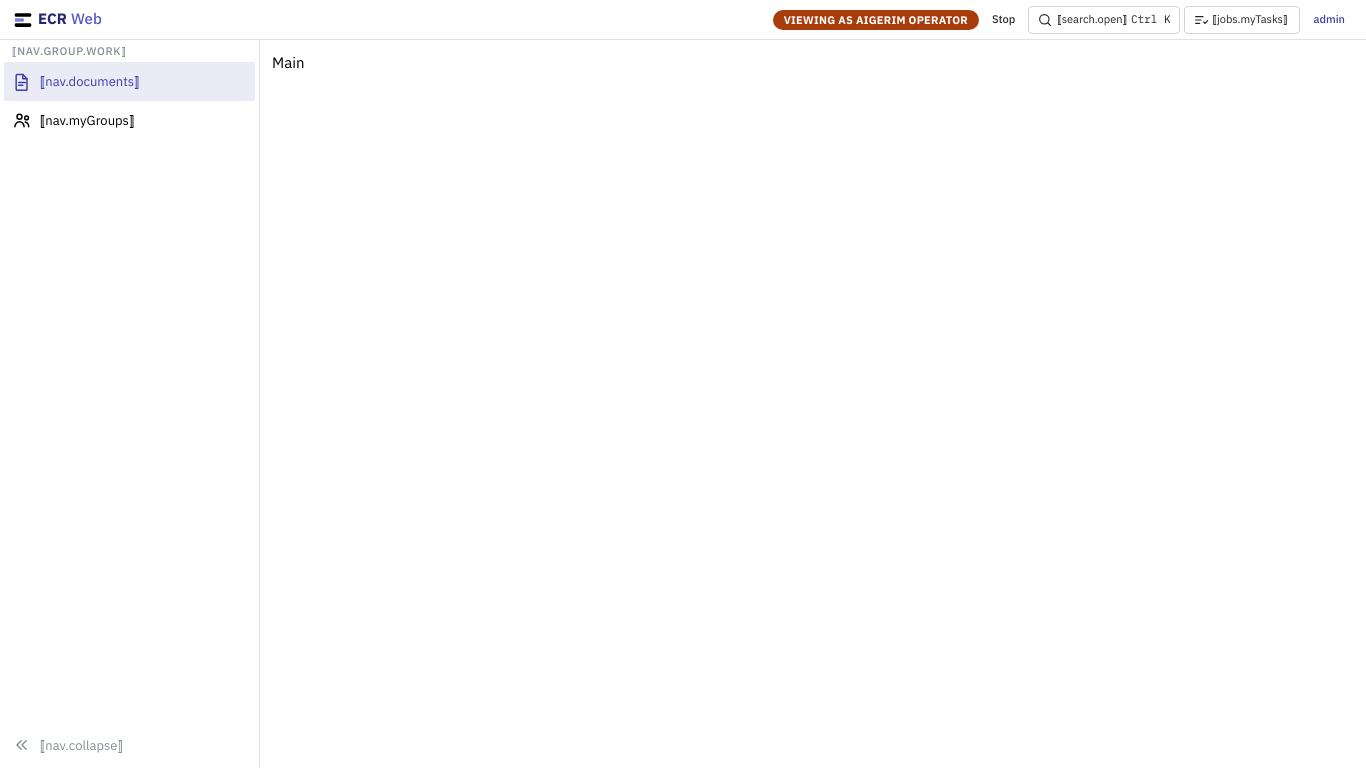
Scenario: AppLayout: банер симуляції (V-06) › показує ім'я суб'єкта і завершує сеанс номером із /me, без sessionStorage
Expected: the text "Viewing as Aigerim Operator" is shown, [784, 10, 968, 28]
Click the button "Stop". click: (1004,20)
box: [983, 8, 1024, 32]
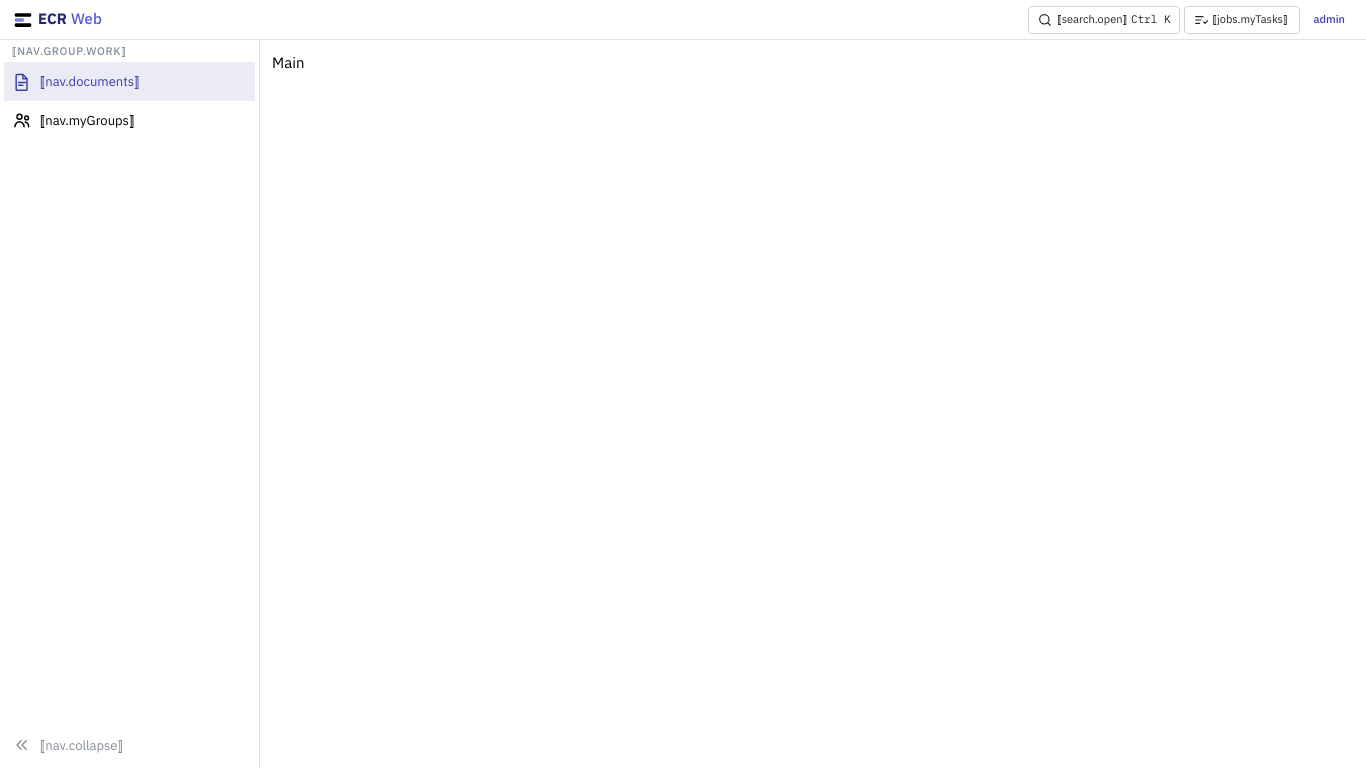
Expected: the text "Viewing as" is gone
